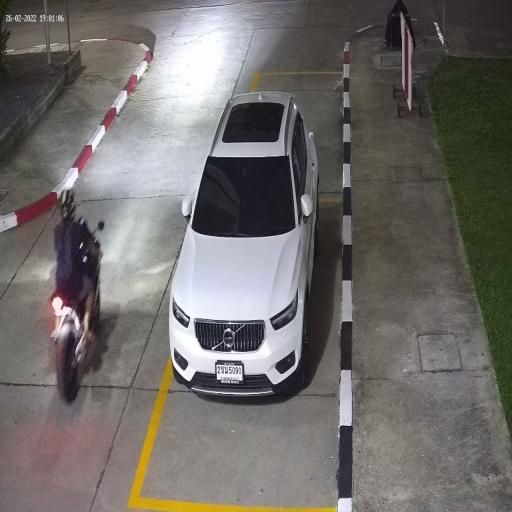car: (170, 94, 318, 396)
motorcycle: (49, 286, 103, 404)
